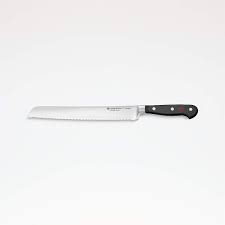knife: (25, 104, 199, 122)
